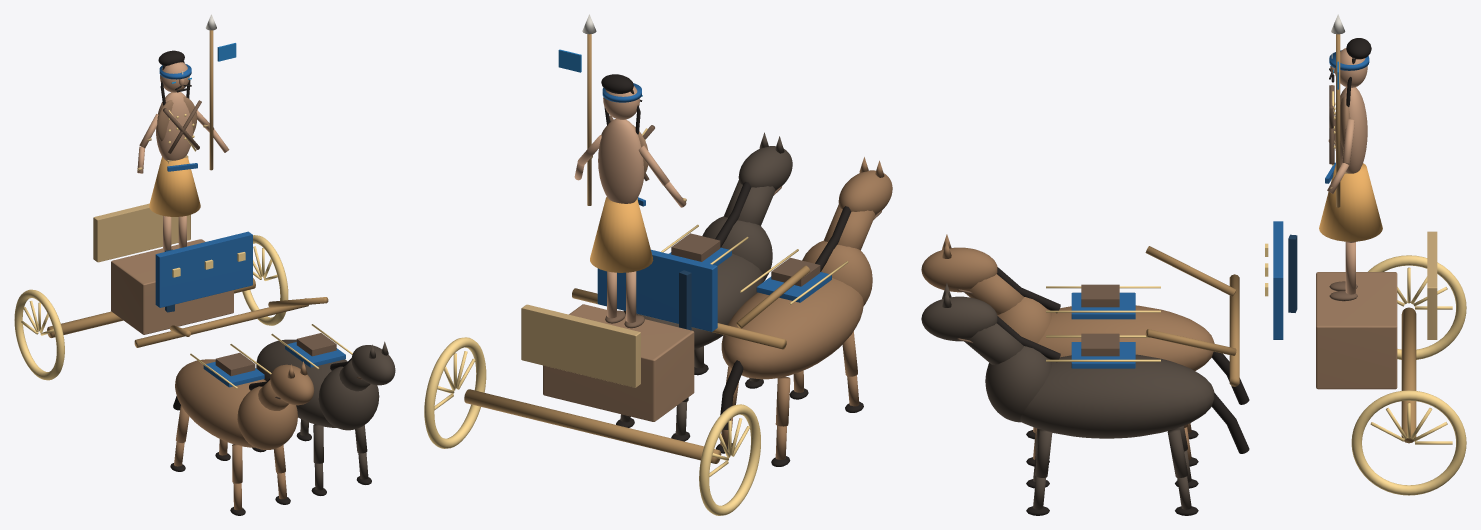
Rendered from pandava-war-chariot.glb.
The picture shows the model from 3 angles, left to right: view 1: azimuth 30°, elevation 25°; view 2: azimuth 150°, elevation 25°; view 3: azimuth 270°, elevation 25°; orthographic projection. The views are drawn at different scales.
Visible parts, largest first — view 1: front chariot panel, ornate chariot cabin, horse body, rear chariot panel, horse chest, horse chest.001, layered dhoti cloth, horse body.001, spoked wheel, torso muscle shape, yoke, horse head.001 (+12 smaller); view 2: horse body, ornate chariot cabin, rear chariot panel, front chariot panel, left axle, layered dhoti cloth, torso muscle shape, horse body.001, spoked wheel, spoked wheel.001, horse chest, horse chest.001 (+17 smaller); view 3: horse body.001, ornate chariot cabin, horse body, spoked wheel.001, layered dhoti cloth, horse chest.001, horse head.001, horse head, spoked wheel, left axle, horse chest, torso muscle shape (+17 smaller).
Boxes of the visible parts, bbox=[...] form: front chariot panel: bbox=[155, 231, 252, 307]; ornate chariot cabin: bbox=[111, 239, 233, 334]; horse body: bbox=[175, 359, 266, 447]; rear chariot panel: bbox=[93, 203, 190, 262]; horse chest: bbox=[237, 386, 297, 449]; horse chest.001: bbox=[318, 366, 379, 430]; layered dhoti cloth: bbox=[149, 157, 200, 216]; horse body.001: bbox=[256, 339, 347, 427]; spoked wheel: bbox=[14, 289, 64, 380]; torso muscle shape: bbox=[156, 92, 193, 160]; yoke: bbox=[134, 298, 308, 347]; horse head.001: bbox=[351, 345, 395, 385]; horse body: bbox=[721, 278, 863, 379]; ornate chariot cabin: bbox=[543, 304, 694, 421]; rear chariot panel: bbox=[521, 304, 640, 387]; front chariot panel: bbox=[597, 249, 717, 331]; left axle: bbox=[464, 389, 721, 463]; layered dhoti cloth: bbox=[590, 197, 653, 272]; torso muscle shape: bbox=[598, 119, 644, 203]; horse body.001: bbox=[623, 253, 763, 349]; spoked wheel: bbox=[699, 404, 760, 515]; spoked wheel.001: bbox=[424, 337, 486, 448]; horse chest: bbox=[802, 240, 872, 305]; horse chest.001: bbox=[702, 216, 772, 281]; horse body.001: bbox=[1020, 354, 1214, 438]; ornate chariot cabin: bbox=[1316, 272, 1397, 389]; horse body: bbox=[1038, 305, 1214, 370]; spoked wheel.001: bbox=[1351, 390, 1466, 495]; layered dhoti cloth: bbox=[1319, 163, 1382, 241]; horse chest.001: bbox=[985, 346, 1051, 422]; horse head.001: bbox=[921, 296, 997, 341]; horse head: bbox=[921, 247, 997, 292]; spoked wheel: bbox=[1368, 255, 1466, 359]; left axle: bbox=[1401, 307, 1416, 443]; horse chest: bbox=[997, 297, 1051, 343]; torso muscle shape: bbox=[1334, 87, 1367, 173].
Size of the model in its own units: 1.13 by 1.83 by 1.88.
